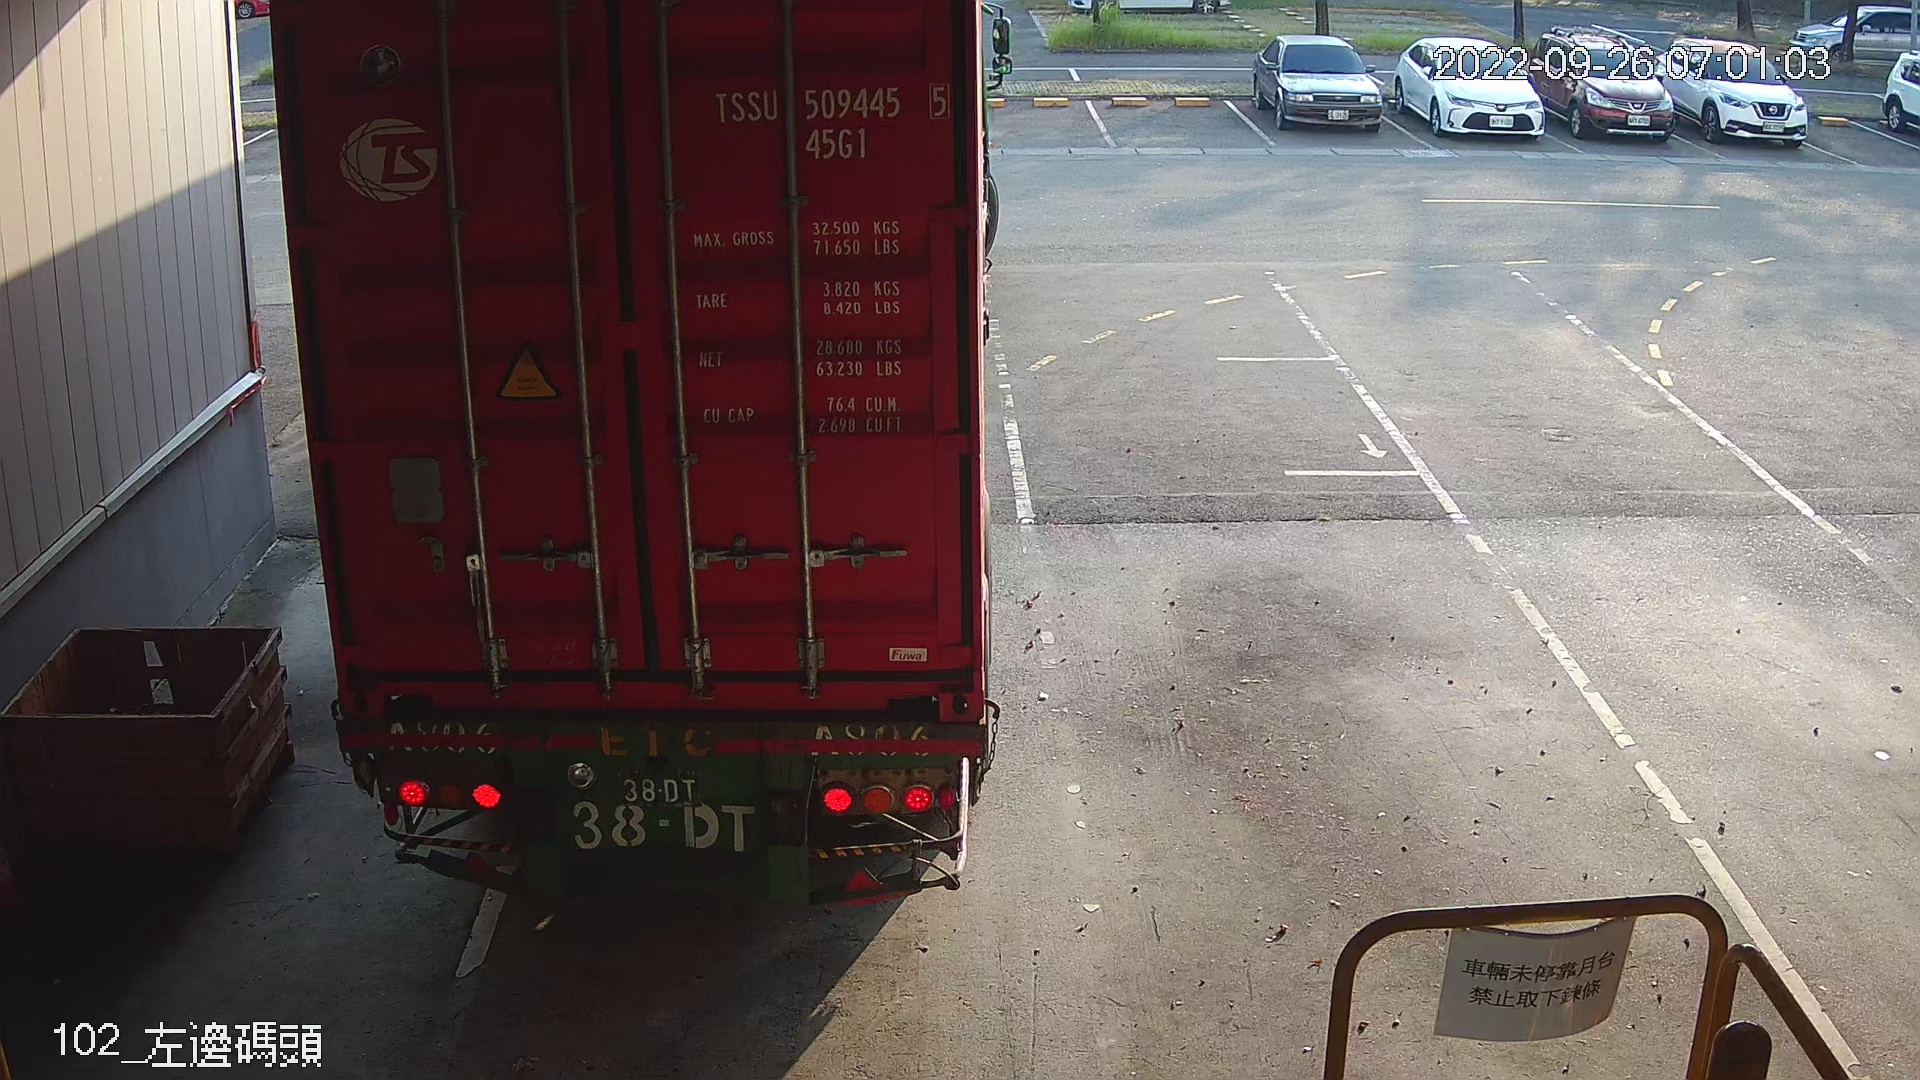container: (702, 76, 959, 169)
